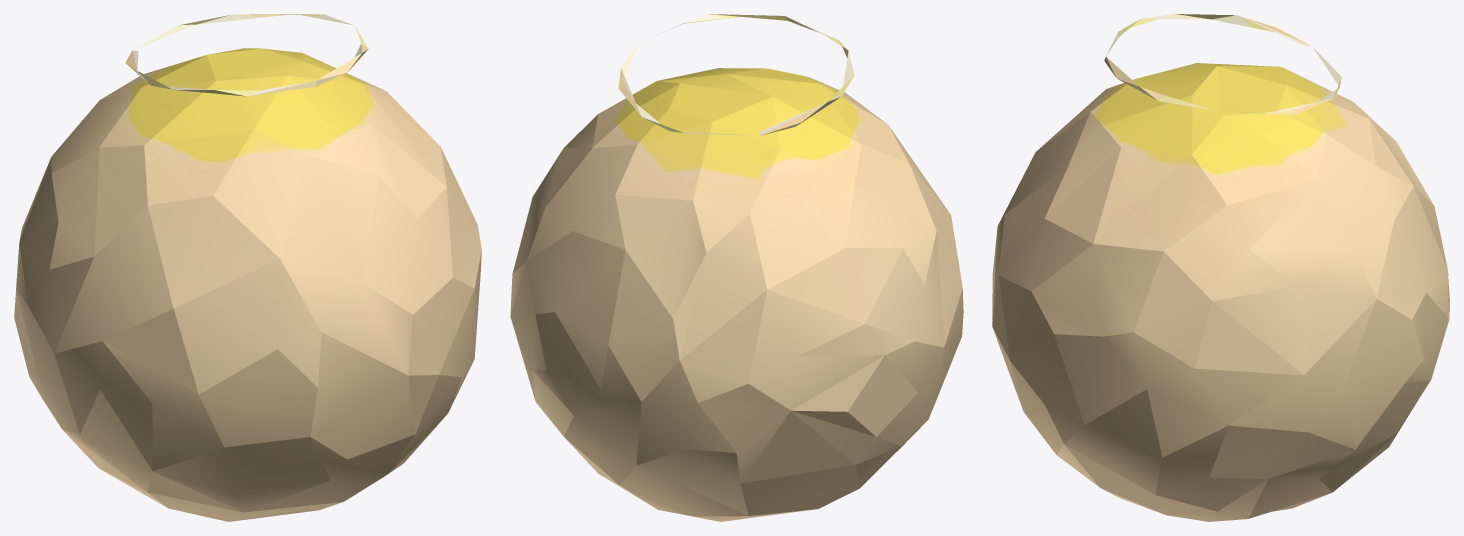
The model's file is orbe-de-numero.glb.
3 views of the same model, side by side, from view 1: azimuth 30°, elevation 25°; view 2: azimuth 150°, elevation 25°; view 3: azimuth 270°, elevation 25° (orthographic). The views are drawn at different scales.
Size of the model in its own units: 1.76 by 1.89 by 1.76.
Materials: 1 (1 with a texture image).
